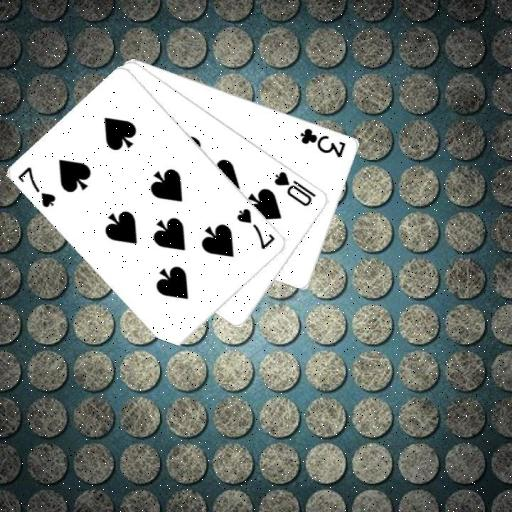10S: (271, 168, 318, 208)
3C: (298, 125, 348, 160)
7S: (234, 205, 278, 251), (15, 164, 59, 210)
